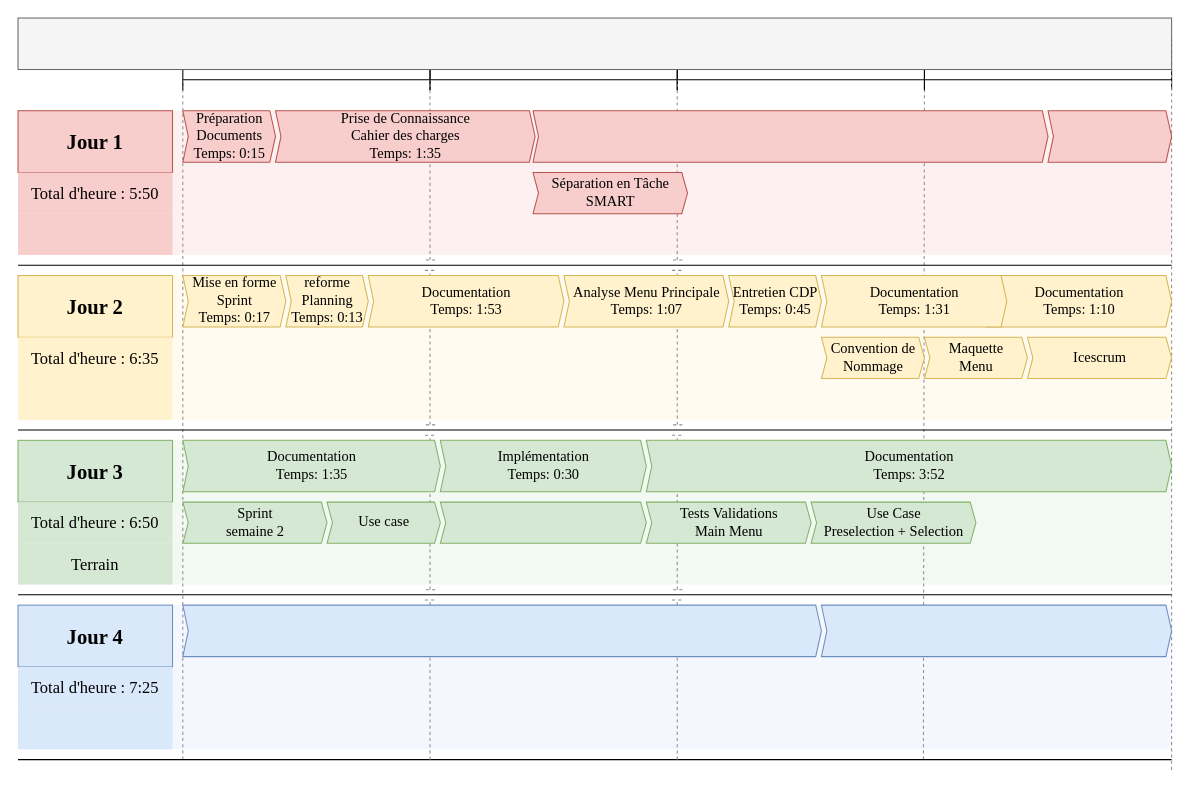
Image size: 1191x789. Some labels were removed from this diagram. The shapes that lost their labels are listed below. From the top down, each one's centre as x and y in pixels, then its label:
At (x=594, y=43): "Semaine 1 (02.05.2022 - 06.05.2022): Environnement".
At (x=790, y=136): "Plannification Temps: 2:21".
At (x=1109, y=136): "Entretien(CDP) Temps: 0:30".
At (x=95, y=233): "Plannification".
At (x=95, y=398): "Menu Principal".
At (x=542, y=522): "Fonctions liés au menu".
At (x=501, y=630): "Documentation Temps: 5:54".
At (x=996, y=630): "Analyse et conception Temps: 2:25".
At (x=95, y=728): "Obstacles et objectifs".
